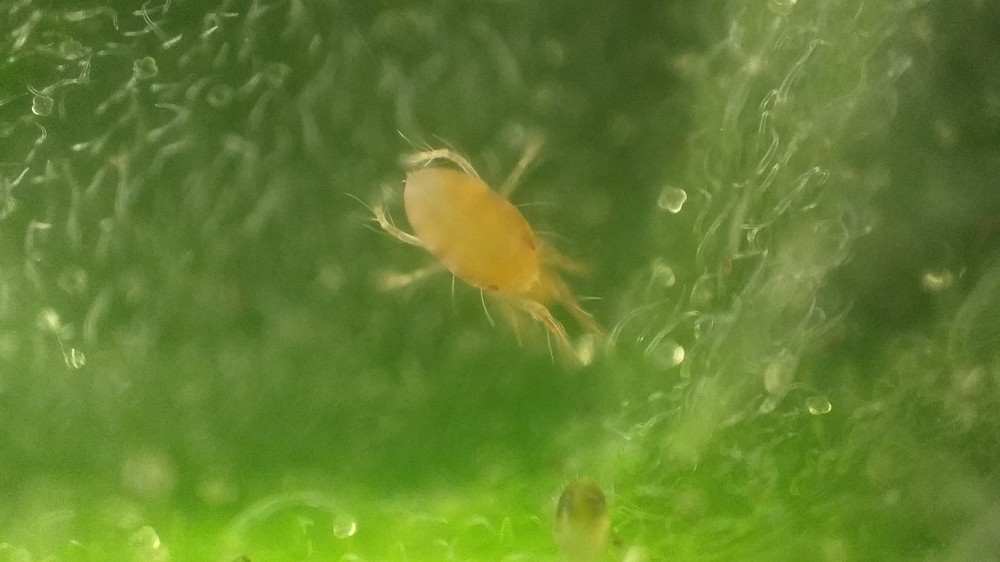Aracnido Rojo: (338, 117, 640, 372)
